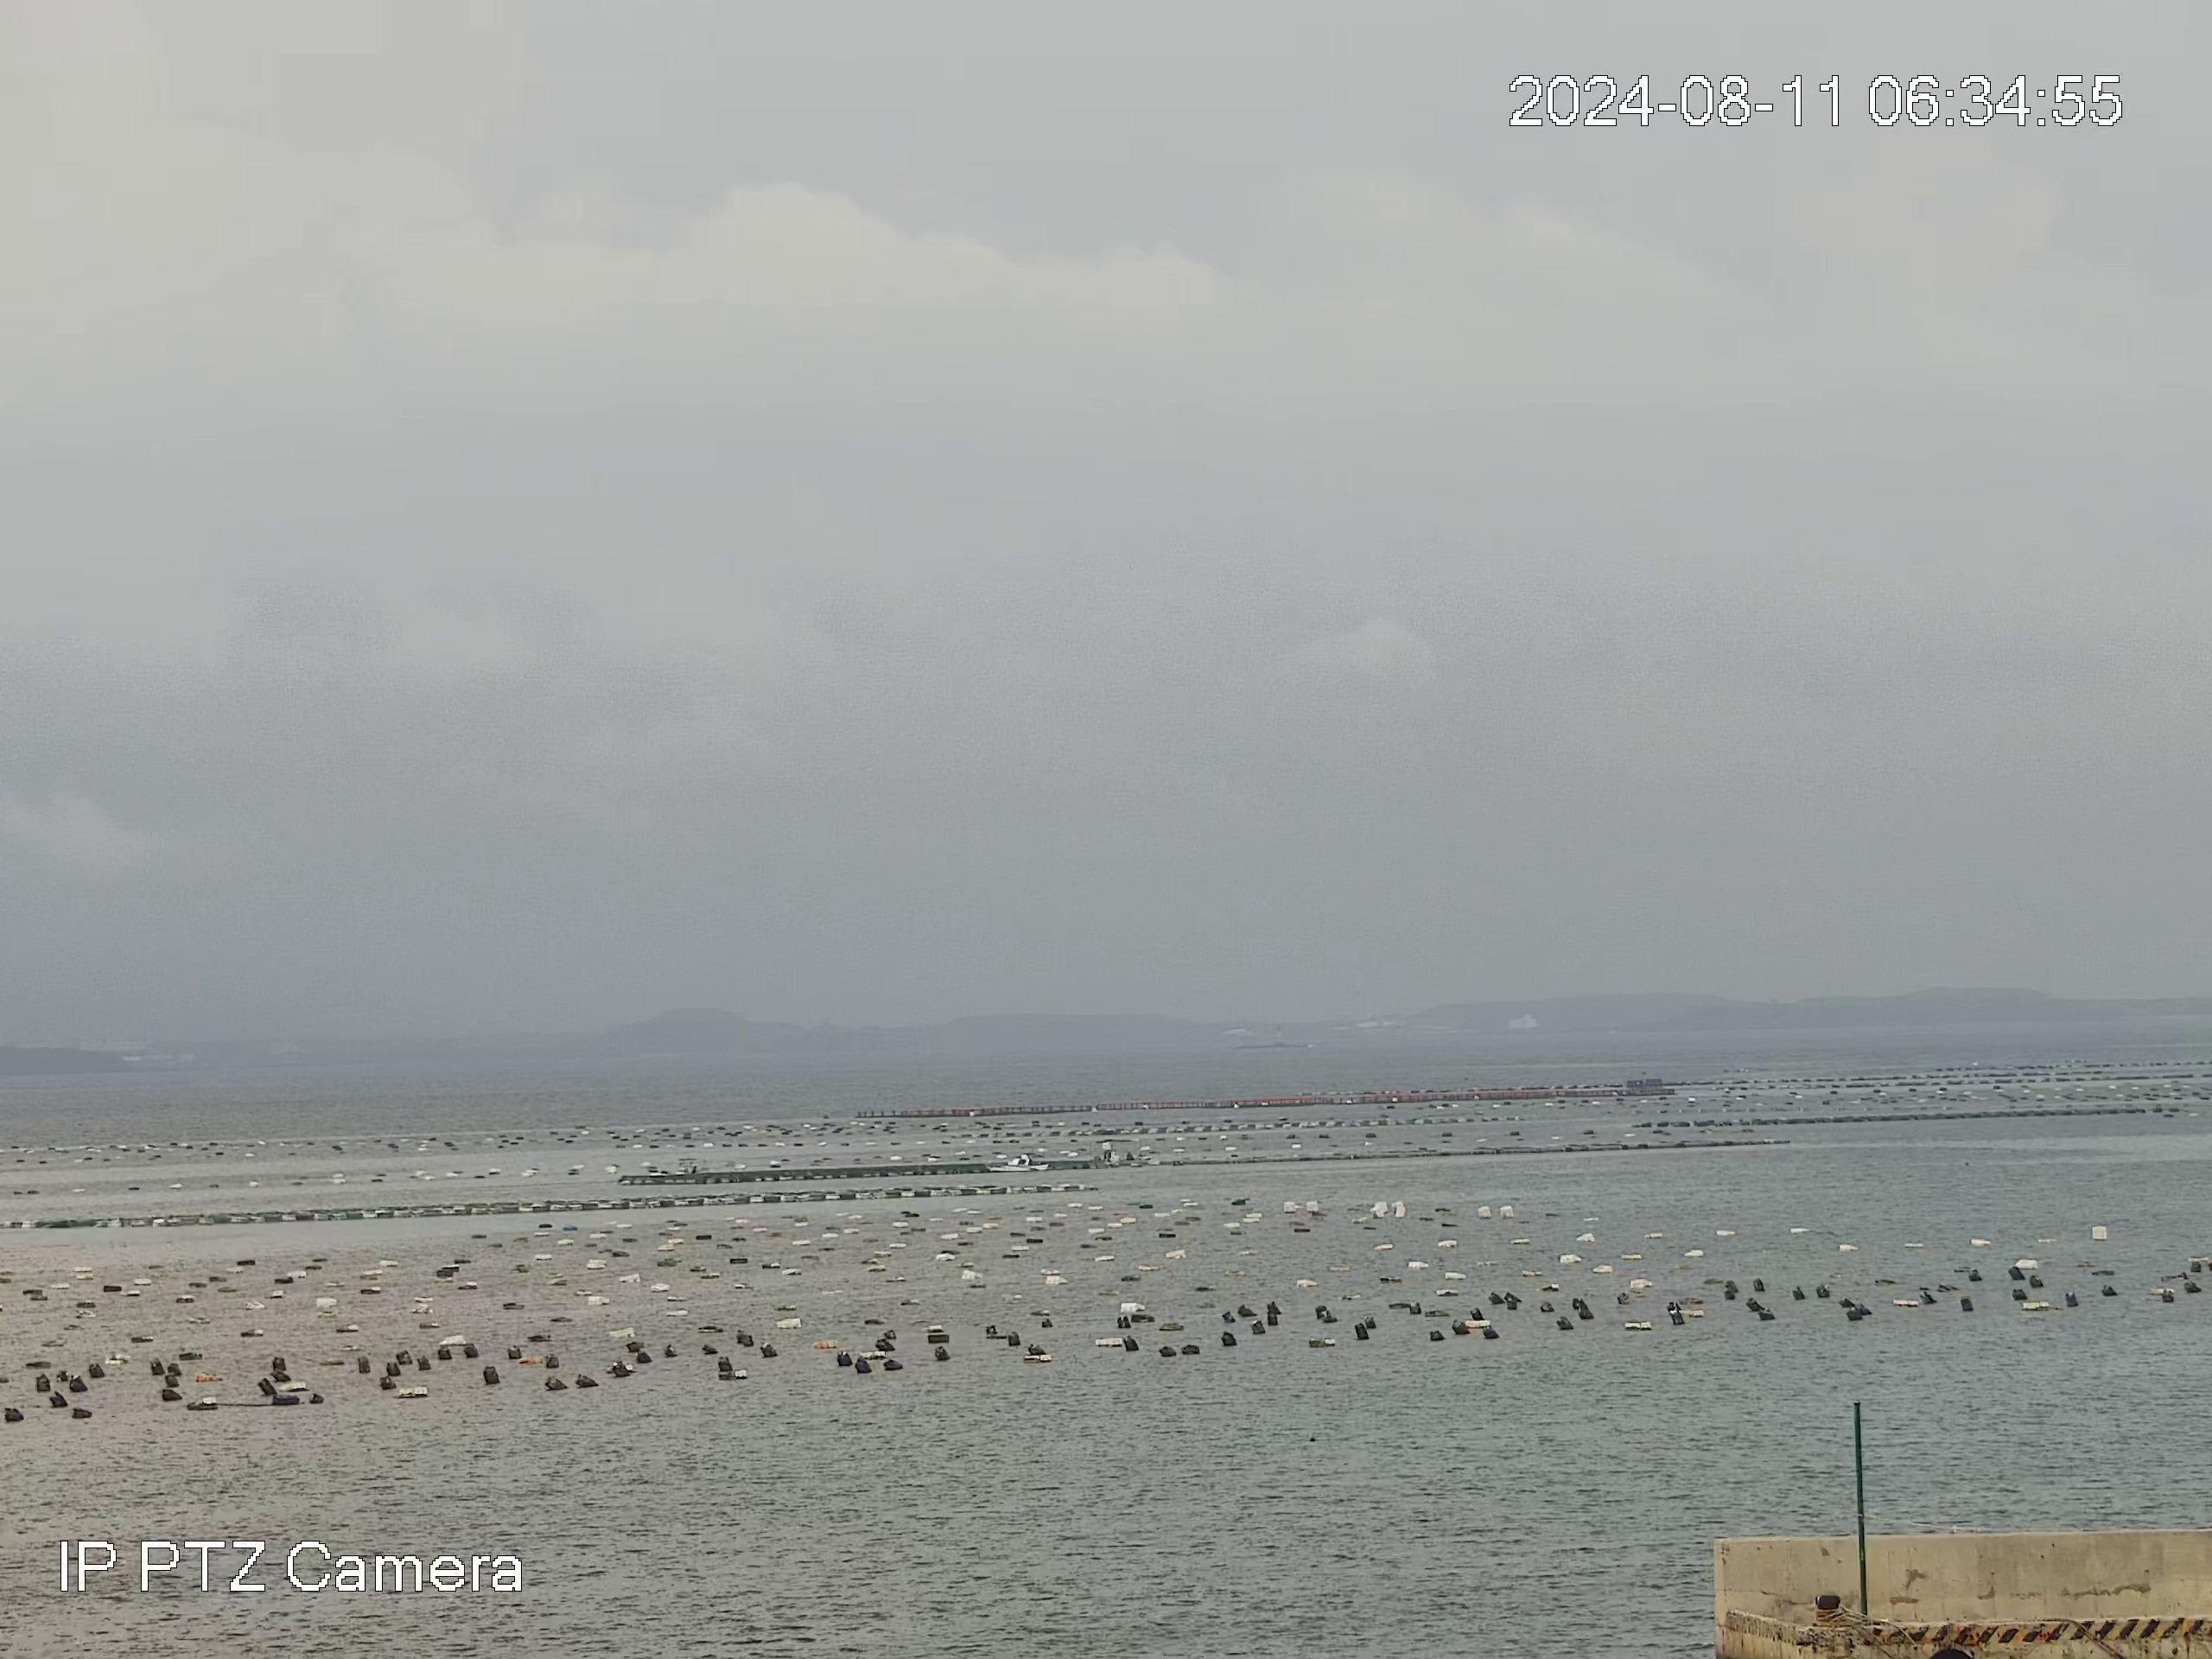boat: (984, 1150, 1052, 1173)
